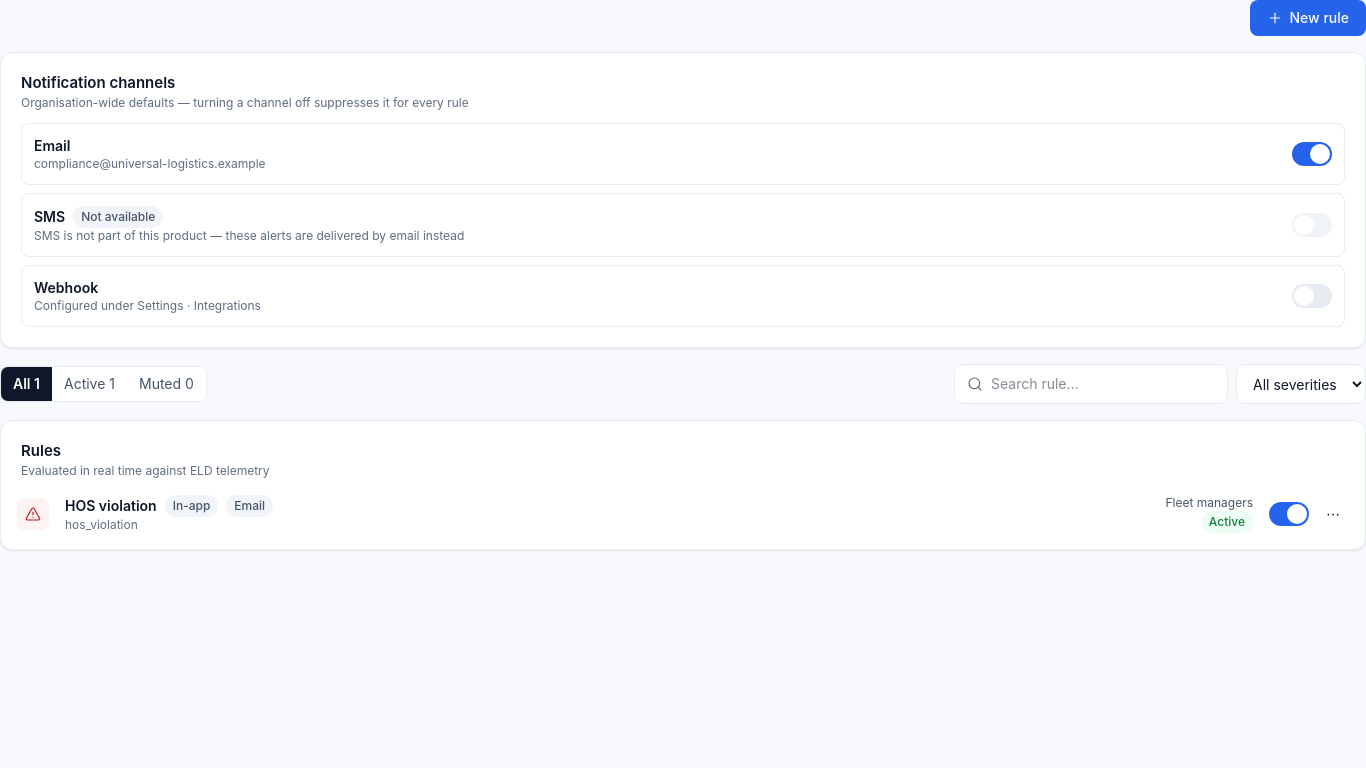
Test: AlertRulesPage — W-21 › WB-110 — deleting a rule requires confirmation and cancel sends nothing
expect the text "HOS violation" is shown: met, box [65,497,157,514]
Step 1. Click the button named "Rule actions" → (1333, 514), box [1317,498,1349,530]
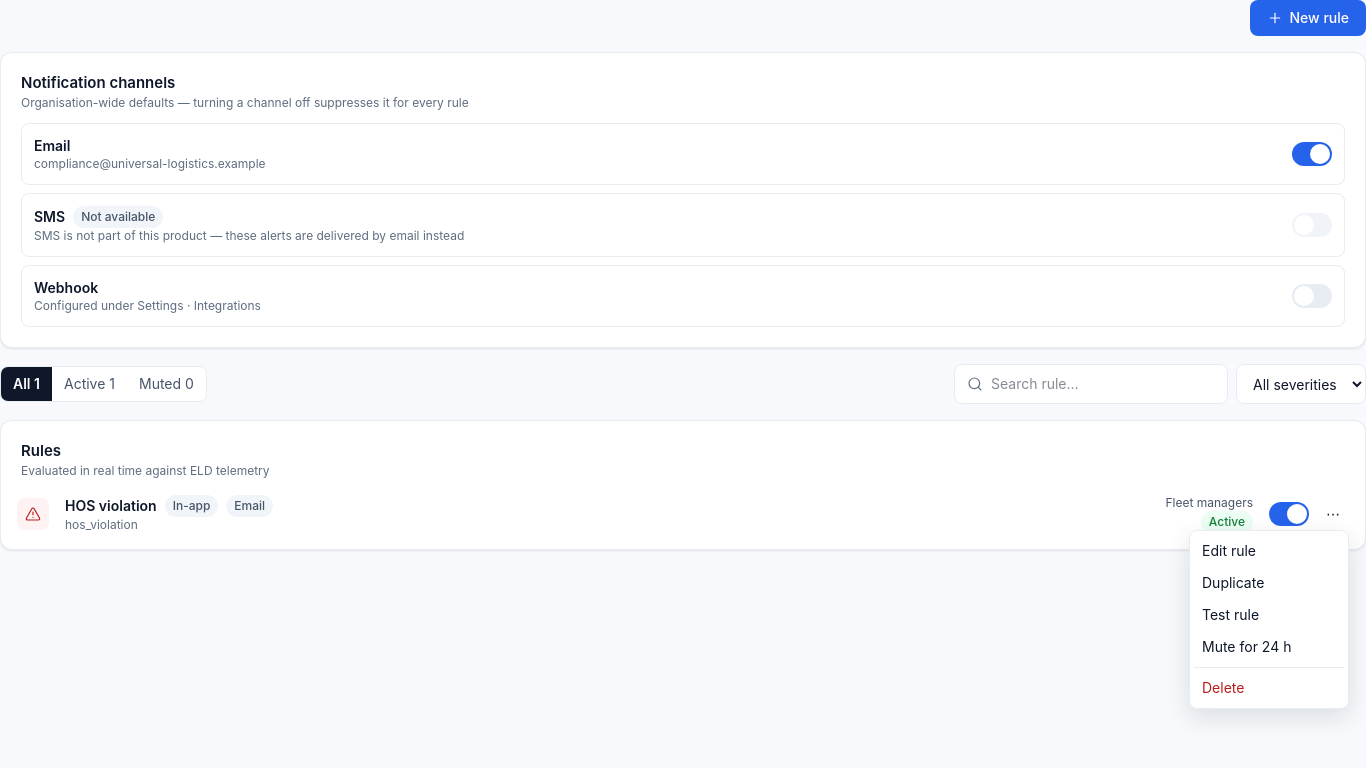
Step 2. Click the menu item "Delete" → (1223, 688), box [1202,679,1244,696]
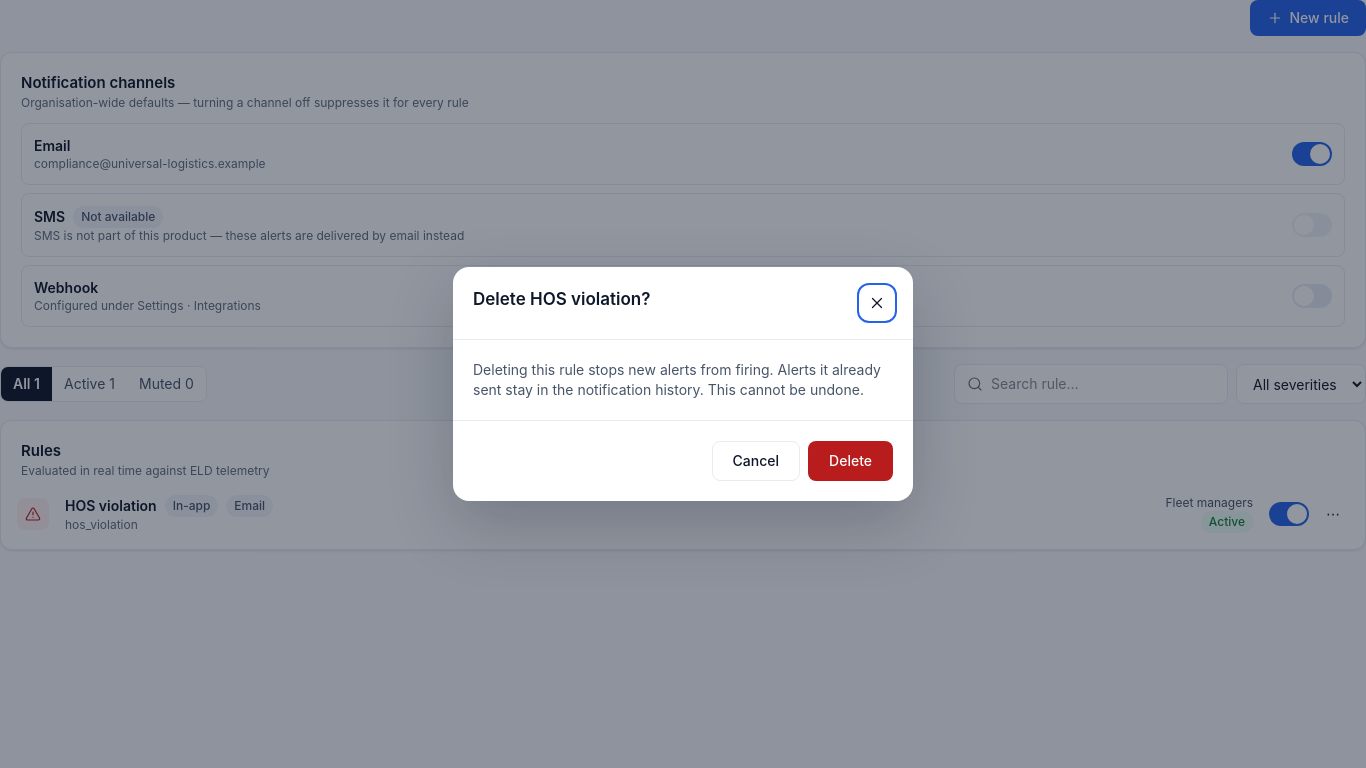
Step 3. Click the button "Cancel" → (756, 461), box [712,441,800,481]
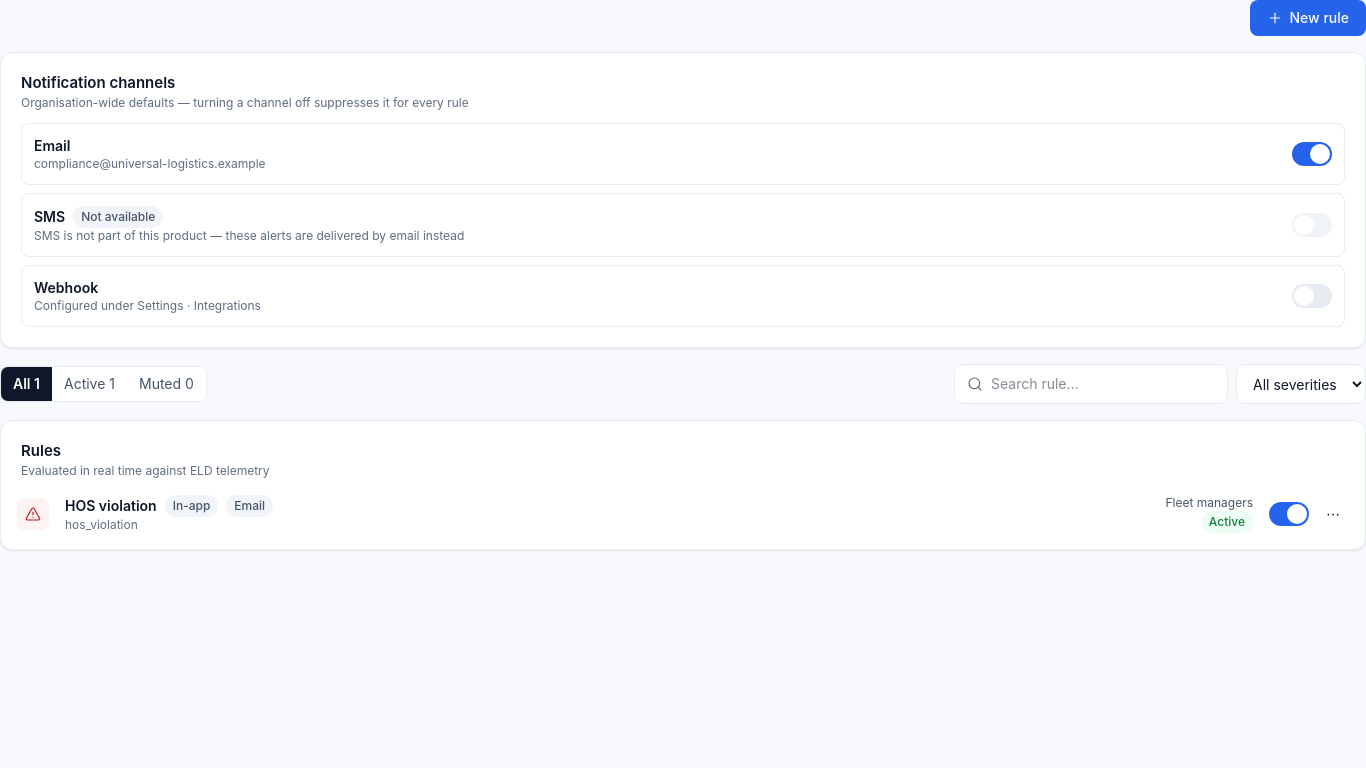
expect the dialog is gone: met
